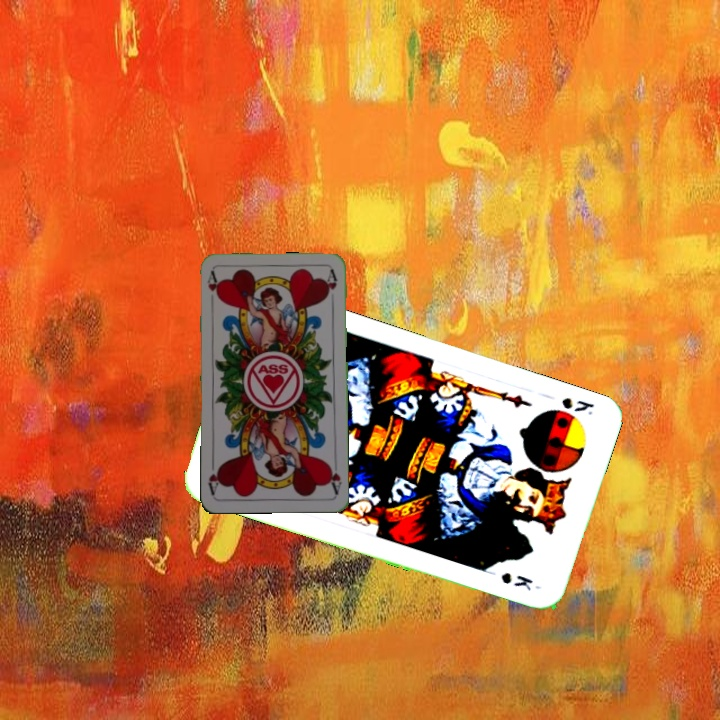HA: (324, 456, 344, 496), (203, 268, 222, 301)
SK: (557, 393, 597, 418)
